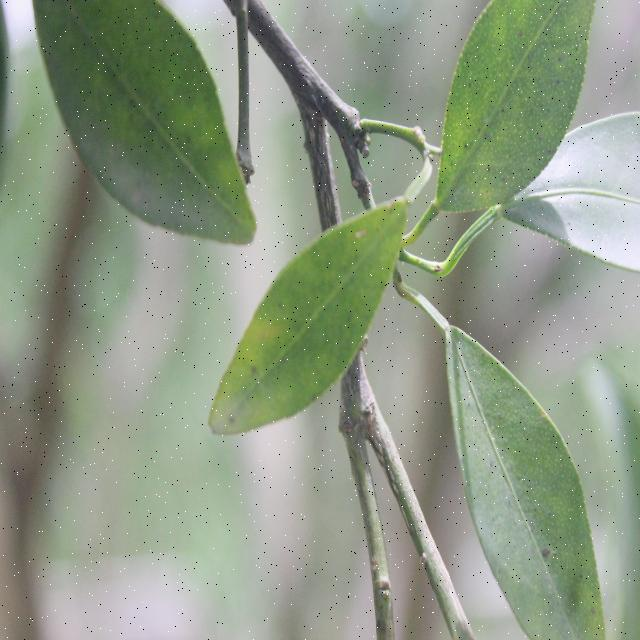blackspot: (210, 199, 400, 438), (459, 361, 603, 634), (436, 2, 593, 208)
